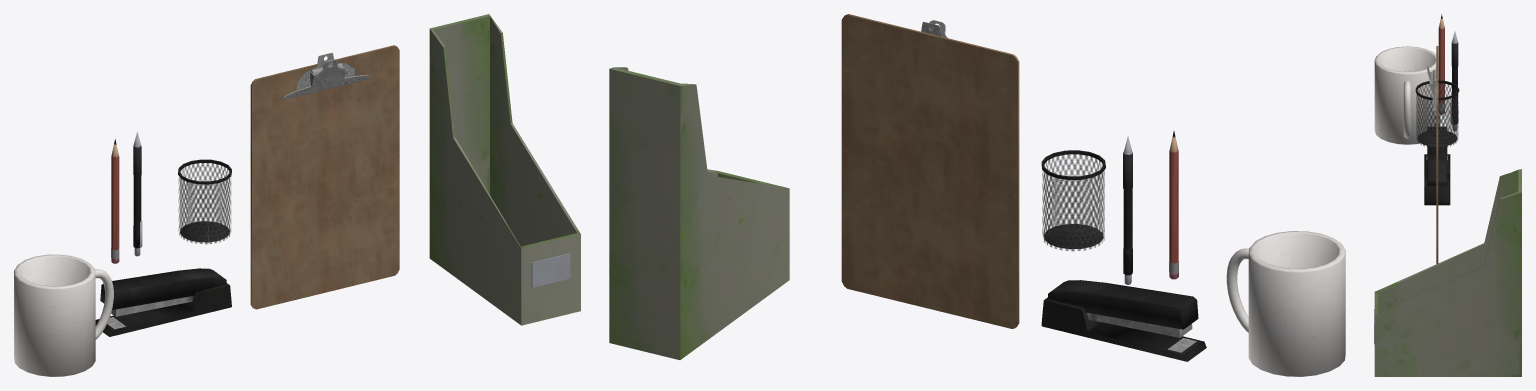
The model's file is supplies.glb.
3 renders of one model, left to right at view 1: azimuth 30°, elevation 25°; view 2: azimuth 150°, elevation 25°; view 3: azimuth 270°, elevation 25°, orthographic. The views are drawn at different scales.
Visible parts, largest first — view 1: Cube_4, Cube.003_6, Cylinder.002_5, Cube.001_2, Cylinder_3, Cone.001_1, Cone_0; view 2: Cube_4, Cube.003_6, Cylinder.002_5, Cube.001_2, Cylinder_3, Cone_0, Cone.001_1; view 3: Cube.003_6, Cylinder.002_5, Cylinder_3, Cube.001_2, Cube_4, Cone.001_1, Cone_0.
Part boxes in pixels (x1,y1,x2,y2): Cube_4: [250, 45, 399, 309]; Cube.003_6: [429, 14, 580, 325]; Cylinder.002_5: [14, 254, 113, 376]; Cube.001_2: [95, 268, 231, 336]; Cylinder_3: [178, 159, 231, 244]; Cone.001_1: [133, 131, 142, 256]; Cone_0: [111, 139, 119, 263]; Cube_4: [841, 14, 1019, 328]; Cube.003_6: [609, 67, 789, 359]; Cylinder.002_5: [1226, 231, 1345, 376]; Cube.001_2: [1041, 280, 1206, 361]; Cylinder_3: [1041, 150, 1105, 251]; Cone_0: [1169, 131, 1178, 279]; Cone.001_1: [1123, 136, 1132, 284]; Cube.003_6: [1374, 169, 1521, 376]; Cylinder.002_5: [1374, 46, 1440, 144]; Cylinder_3: [1415, 80, 1459, 148]; Cube.001_2: [1424, 126, 1450, 205]; Cube_4: [1427, 46, 1438, 263]; Cone.001_1: [1450, 31, 1458, 131]; Cone_0: [1438, 14, 1445, 114].
Bounding box in the file's own units: 0.8012 × 0.3984 × 0.2363.
1 material, 1 textured.
